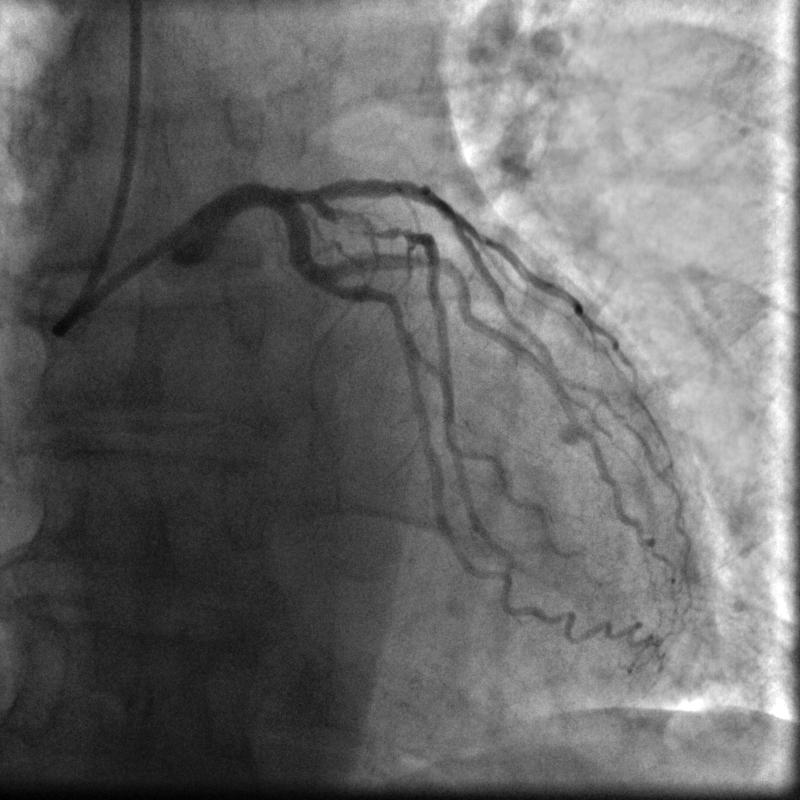Stenosis: (331, 200, 401, 242)
